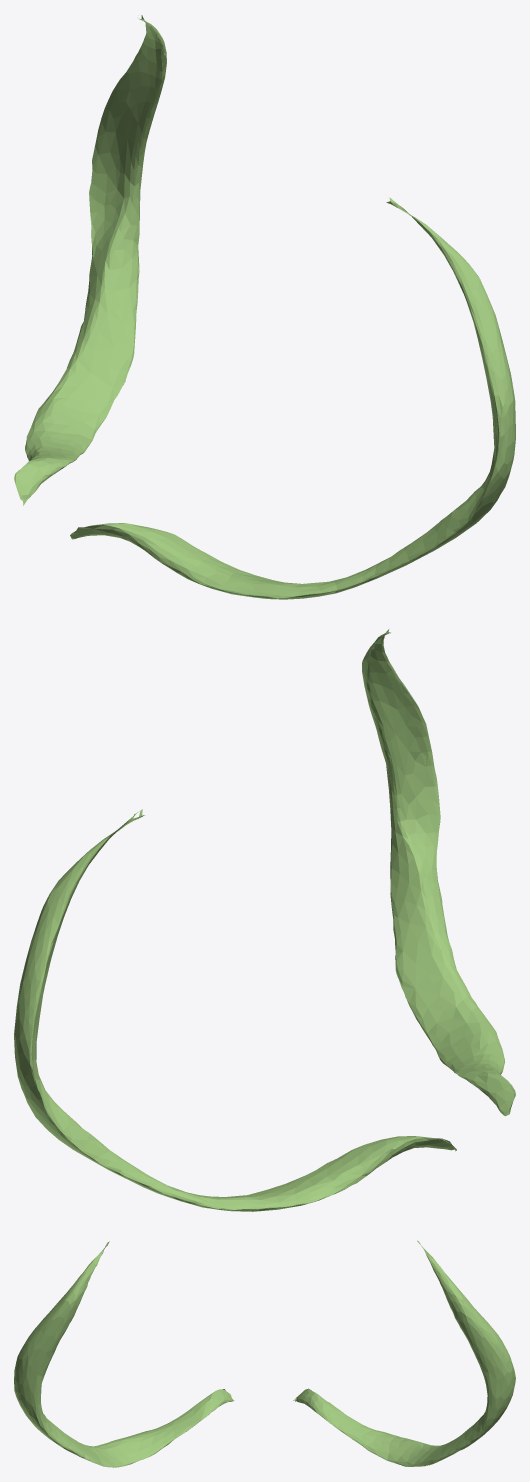
3 renders of one model, top to bottom at view 1: azimuth 30°, elevation 25°; view 2: azimuth 150°, elevation 25°; view 3: azimuth 270°, elevation 25°, orthographic. The views are drawn at different scales.
Visible parts, largest first — view 1: 10704.obj; view 2: 10704.obj; view 3: 10704.obj.
Boxes of the visible parts, x1,y1,x2,y2 form: 10704.obj: [14, 15, 515, 599]; 10704.obj: [14, 629, 515, 1211]; 10704.obj: [14, 1240, 515, 1467].
Size of the model in its own units: 2617 by 3471 by 6497.
